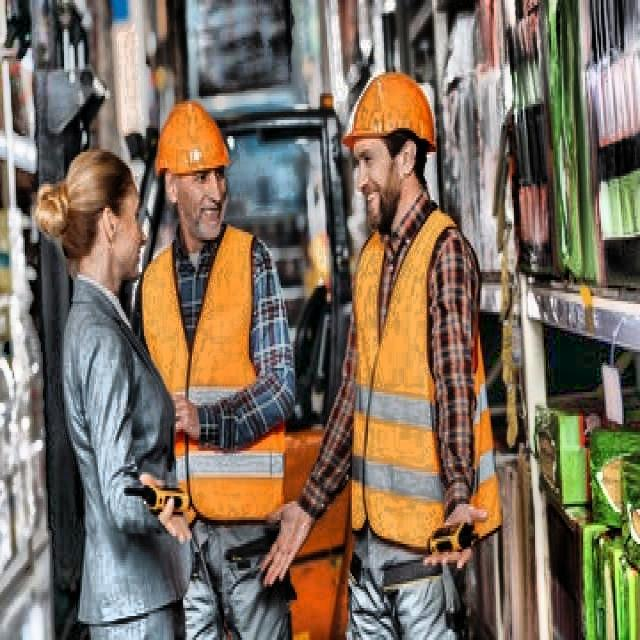person: (325, 64, 503, 640), (140, 90, 302, 640), (35, 146, 184, 640)
